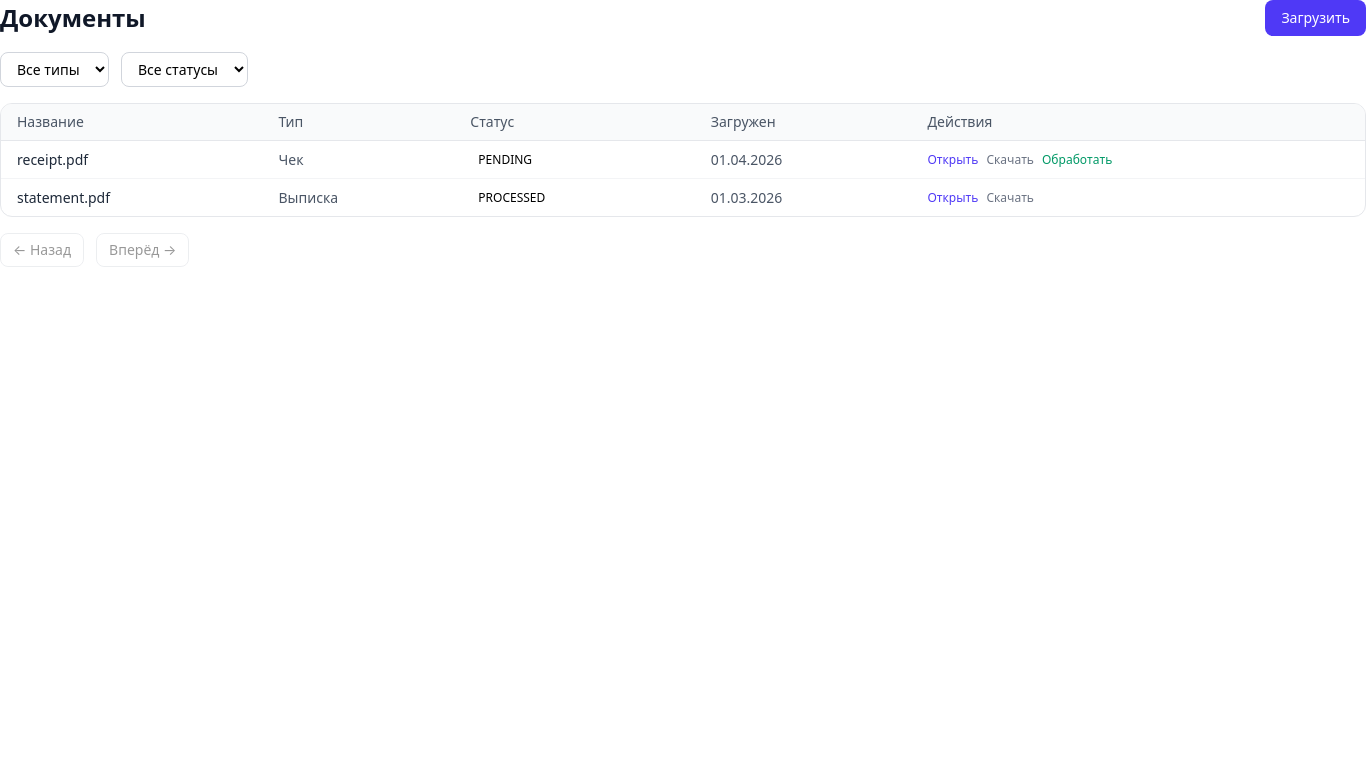
it: Documents page › opens RECEIPT process modal with receipt selector
Expected: the text "receipt.pdf" is shown, [1,140,262,178]
Click the button "Обработать": (1077, 160) [1042,152,1112,168]
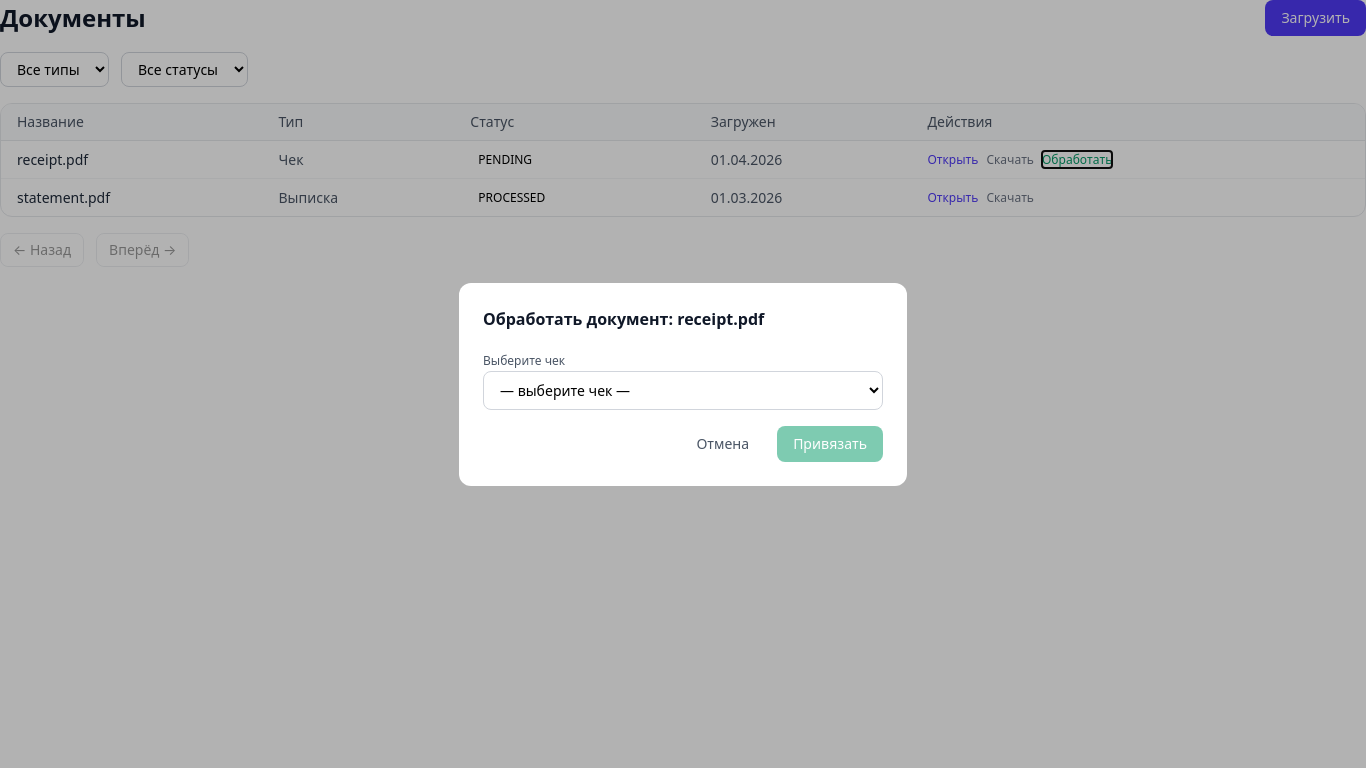
Expected: the heading "Обработать документ: receipt.pdf" is shown, [483,308,764,330]
Expected: the text "Выберите чек" is shown, [483,352,565,368]
